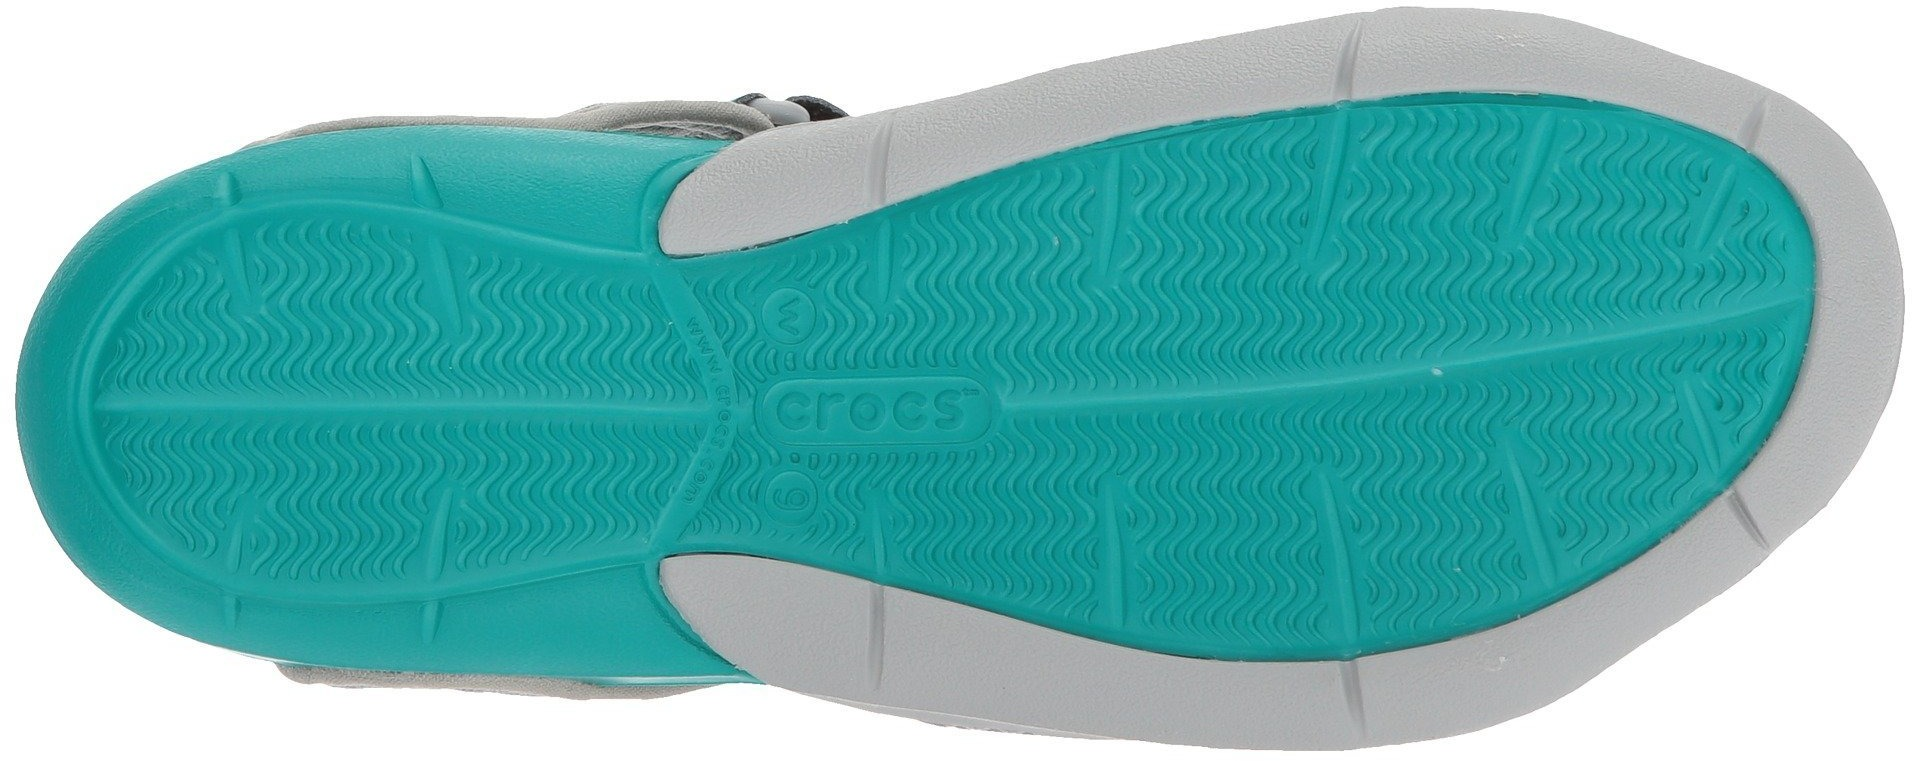chevron: (332, 272, 627, 563), (1175, 371, 1482, 623), (1486, 187, 1757, 452), (1183, 135, 1484, 371), (107, 312, 328, 551), (978, 381, 1182, 593), (976, 172, 1182, 374)
text: (778, 374, 865, 463), (880, 377, 968, 452), (769, 295, 815, 341), (772, 477, 812, 521)
